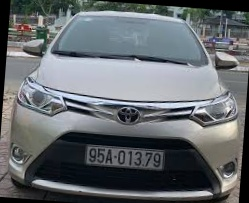Bien-so: (83, 144, 166, 172)
